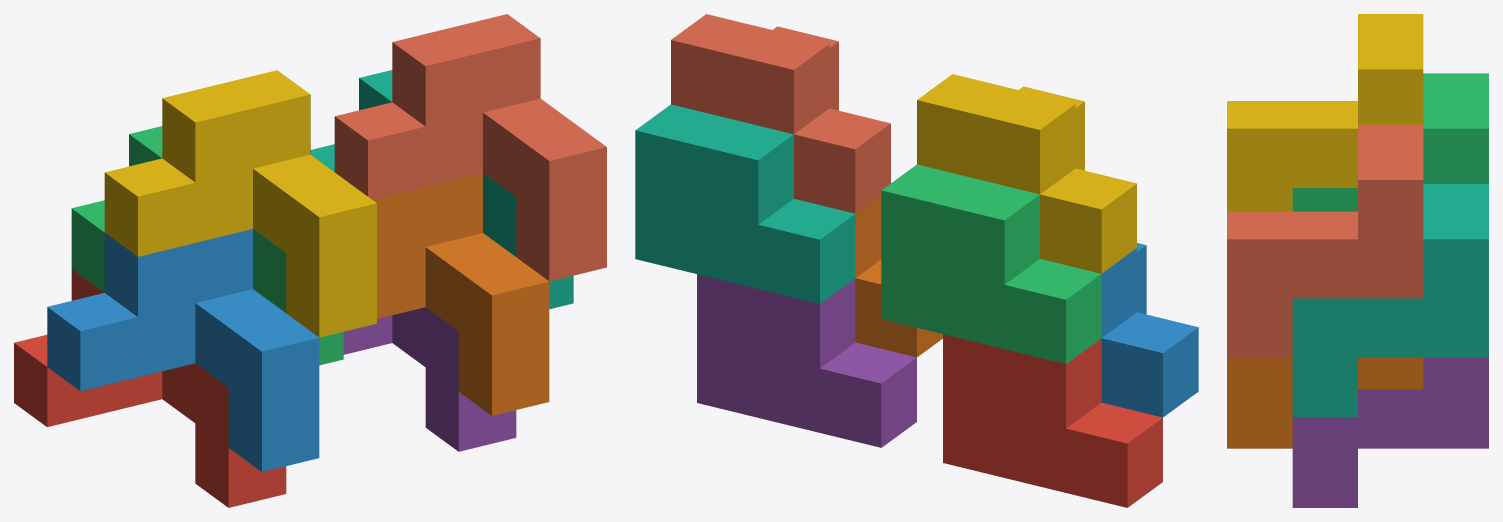
File: tiling.obj
The picture shows the model from 3 angles, left to right: view 1: azimuth 30°, elevation 25°; view 2: azimuth 150°, elevation 25°; view 3: azimuth 270°, elevation 25°; orthographic projection. The views are drawn at different scales.
Visible parts, largest first — view 1: copy_1_domain_4, copy_1_domain_8, copy_1_domain_2, copy_1_domain_6, copy_1_domain_1, copy_1_domain_5, copy_1_domain_3, copy_1_domain_7; view 2: copy_1_domain_3, copy_1_domain_7, copy_1_domain_5, copy_1_domain_1, copy_1_domain_4, copy_1_domain_8, copy_1_domain_2, copy_1_domain_6; view 3: copy_1_domain_8, copy_1_domain_7, copy_1_domain_4, copy_1_domain_5, copy_1_domain_3, copy_1_domain_6.
Boxes of the visible parts, box(x1,y1,x2,y2) form: copy_1_domain_4: box(104, 70, 376, 337); copy_1_domain_8: box(334, 14, 606, 281); copy_1_domain_2: box(47, 229, 319, 471); copy_1_domain_6: box(372, 173, 549, 415); copy_1_domain_1: box(14, 269, 286, 507); copy_1_domain_5: box(343, 307, 516, 451); copy_1_domain_3: box(71, 126, 343, 365); copy_1_domain_7: box(310, 70, 573, 309); copy_1_domain_3: box(881, 164, 1101, 363); copy_1_domain_7: box(635, 104, 855, 303); copy_1_domain_5: box(697, 274, 916, 447); copy_1_domain_1: box(943, 334, 1162, 507); copy_1_domain_4: box(917, 74, 1136, 273); copy_1_domain_8: box(671, 14, 890, 213); copy_1_domain_2: box(1101, 243, 1198, 417); copy_1_domain_6: box(855, 195, 942, 357); copy_1_domain_8: box(1227, 124, 1423, 357); copy_1_domain_7: box(1292, 184, 1488, 416); copy_1_domain_4: box(1227, 14, 1423, 211); copy_1_domain_5: box(1292, 357, 1488, 507); copy_1_domain_3: box(1292, 73, 1488, 211); copy_1_domain_6: box(1227, 357, 1423, 448).
Bounding box in the file's own units: 8 × 6 × 4.
